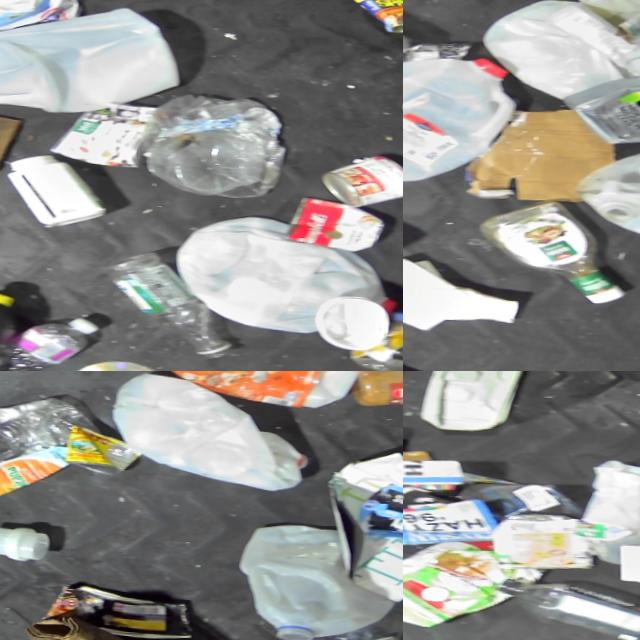can: (47, 97, 158, 167), (488, 509, 595, 572), (283, 193, 385, 250), (316, 150, 403, 207), (63, 421, 140, 476), (348, 0, 403, 33)
milk_jug: (171, 210, 398, 336), (106, 371, 311, 490), (0, 0, 182, 117), (233, 518, 398, 640), (476, 0, 640, 106), (403, 44, 520, 185), (569, 136, 640, 240), (417, 371, 525, 433), (580, 456, 640, 567)
non_white_jug: (403, 534, 544, 630), (132, 371, 362, 407), (558, 59, 640, 148)
plastic_bottle: (98, 246, 240, 359), (0, 385, 101, 512), (494, 575, 640, 640), (144, 128, 263, 193), (0, 310, 97, 371), (350, 302, 403, 371)
